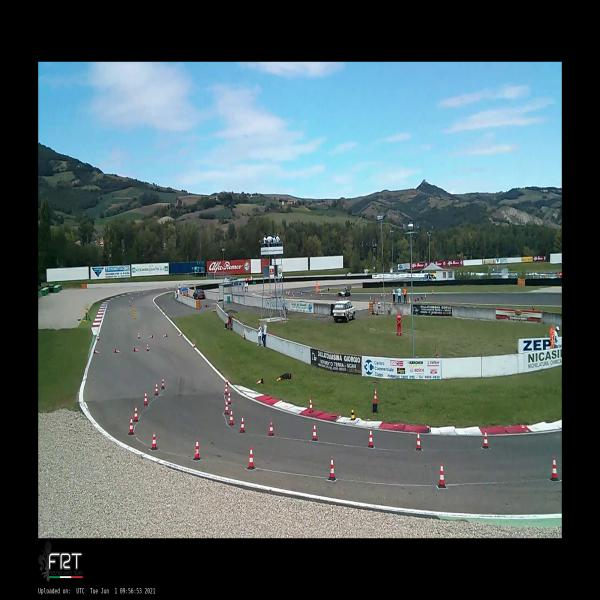large_orange_cone: (247, 446, 256, 470), (438, 463, 446, 488), (328, 457, 336, 481), (550, 457, 558, 481), (150, 430, 158, 450), (193, 440, 201, 460), (367, 429, 374, 448), (482, 431, 489, 448), (239, 416, 246, 432), (128, 417, 134, 435), (416, 432, 422, 450), (312, 423, 318, 441), (268, 418, 274, 436), (228, 408, 234, 425), (133, 406, 139, 422), (143, 392, 148, 406), (373, 388, 377, 405), (154, 384, 159, 396), (309, 398, 313, 413), (225, 400, 229, 414), (227, 392, 231, 404), (225, 373, 229, 385), (161, 378, 165, 389), (224, 383, 228, 394), (133, 347, 140, 353), (93, 349, 100, 355), (256, 379, 264, 384), (146, 343, 150, 352), (114, 348, 120, 354), (148, 334, 154, 339), (163, 333, 168, 338), (97, 334, 100, 341), (178, 333, 183, 337), (138, 331, 140, 340), (193, 342, 196, 348)
unknown_cone: (350, 404, 356, 421)
